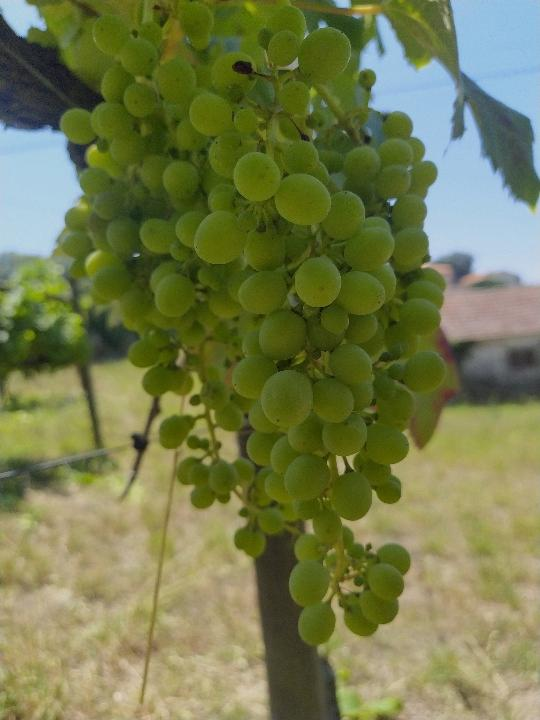grape: (55, 4, 451, 646)
